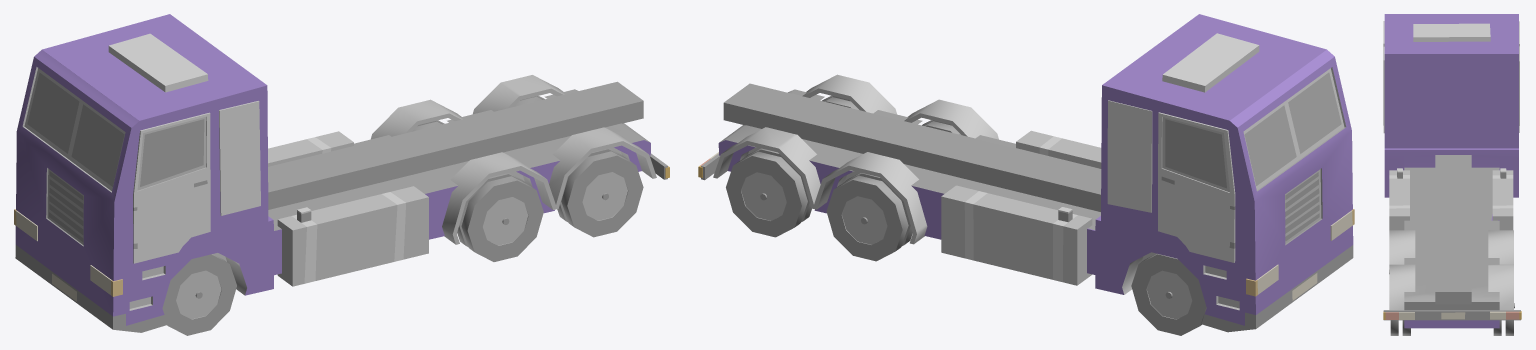
Rendered from kar7.fbx.
3 renders of one model, left to right at view 1: azimuth 30°, elevation 25°; view 2: azimuth 150°, elevation 25°; view 3: azimuth 270°, elevation 25°, orthographic. The views are drawn at different scales.
Visible parts, largest first — view 1: Cube_2, Extrude_1, Cylinder_4, Cylinder_3, Cylinder_1; view 2: Cube_2, Extrude_2, Cylinder_5, Cylinder, Cylinder_2; view 3: Cube_2, Cylinder, Cylinder_3, Extrude_1.
Part boxes in pixels (x1=…): Cube_2: x1=14, y1=14, x2=669, y2=332; Extrude_1: x1=133, y1=112, x2=210, y2=263; Cylinder_4: x1=457, y1=173, x2=543, y2=261; Cylinder_3: x1=557, y1=148, x2=643, y2=237; Cylinder_1: x1=162, y1=254, x2=236, y2=335; Cube_2: x1=698, y1=14, x2=1354, y2=332; Extrude_2: x1=1158, y1=112, x2=1235, y2=262; Cylinder_5: x1=826, y1=172, x2=912, y2=261; Cylinder: x1=726, y1=148, x2=811, y2=237; Cylinder_2: x1=1131, y1=253, x2=1206, y2=335; Cube_2: x1=1383, y1=14, x2=1521, y2=328; Cylinder: x1=1493, y1=303, x2=1514, y2=335; Cylinder_3: x1=1390, y1=320, x2=1410, y2=335; Extrude_1: x1=1383, y1=21, x2=1384, y2=125.
Size of the model in its own units: 821 by 333 by 251.
